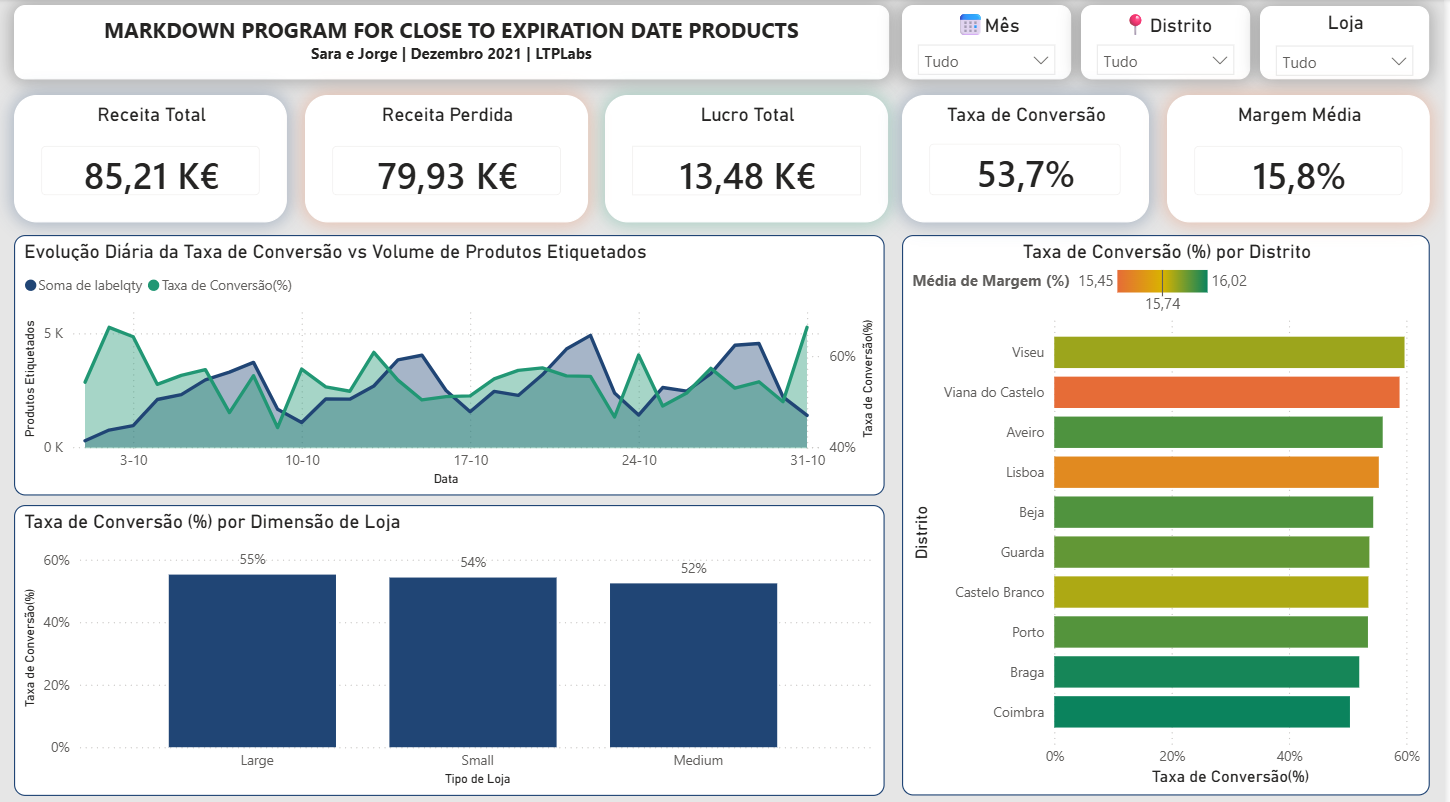

This screenshot's page, from the dashboard's own definition file:
{"tool":"powerbi","page":{"name":"Overview","canvas":[1280,720],"ordinal":0},"visuals":[{"type":"textbox","box":[12.2,5.6,775.6,65.6],"z":0},{"type":"cardVisual","title":"Receita Total","fields":{"Data":["Products.Receita"]},"box":[12.2,85.6,242.2,113.3],"z":1000},{"type":"cardVisual","title":"Lucro Total","fields":{"Data":["Products.Lucro Total"]},"box":[536.7,85.6,251.1,113.3],"z":2000},{"type":"cardVisual","title":"Receita Perdida","fields":{"Data":["Products.Receita Perdida"]},"box":[270,85.6,251.1,113.3],"z":3000},{"type":"clusteredBarChart","title":"Taxa de Conversão (%) por Distrito","fields":{"Category":["Stores.district"],"Y":["Products.Taxa de Conversão(%)"]},"box":[799.8,209.3,468.2,497.4],"z":5000},{"type":"slicer","title":"📅Mês ","fields":{"Values":["Calendario.Mês"]},"box":[800,5.6,150,65.6],"z":6000},{"type":"slicer","title":"📍Distrito","fields":{"Values":["Stores.district"]},"box":[958.9,5.6,150,65.6],"z":7000},{"type":"slicer","title":"Loja","fields":{"Values":["Stores.idstore"]},"box":[1117.4,5.8,150,65.1],"z":8000},{"type":"lineChart","title":"Evolução Diária da Taxa de Conversão vs Volume de Produtos Etiquetados","fields":{"Category":["Calendario.Date"],"Y":["Sum(Products.labelqty)"],"Y2":["Products.Taxa de Conversão(%)"]},"box":[12.2,208.9,772.2,231.1],"z":9000},{"type":"cardVisual","title":"Taxa de Conversão","fields":{"Data":["Products.Taxa de Conversão(%)"]},"box":[800,85.6,218.9,113.3],"z":10000},{"type":"cardVisual","title":"Margem Média","fields":{"Data":["Products.Margem Média(%)"]},"box":[1034.4,85.6,233.3,113.3],"z":11000},{"type":"columnChart","title":"Taxa de Conversão (%) por Dimensão de Loja","fields":{"Y":["Products.Taxa de Conversão(%)"],"Category":["Stores.type"]},"box":[12.2,448.9,772.2,257.8],"z":12000}]}

Visuals, with their boxes in screenshot pixels (x1, y1, x2, y2), scaled from the page's 1280x720 canvas onto the 1450x802 screenshot:
textbox: 14/6/892/79
"Receita Total" cardVisual: 14/95/288/222
"Lucro Total" cardVisual: 608/95/892/222
"Receita Perdida" cardVisual: 306/95/590/222
"Taxa de Conversão (%) por Distrito" clusteredBarChart: 906/233/1436/787
"📅Mês " slicer: 906/6/1076/79
"📍Distrito" slicer: 1086/6/1256/79
"Loja" slicer: 1266/6/1436/79
"Evolução Diária da Taxa de Conversão vs Volume de Produtos Etiquetados" lineChart: 14/233/889/490
"Taxa de Conversão" cardVisual: 906/95/1154/222
"Margem Média" cardVisual: 1172/95/1436/222
"Taxa de Conversão (%) por Dimensão de Loja" columnChart: 14/500/889/787
